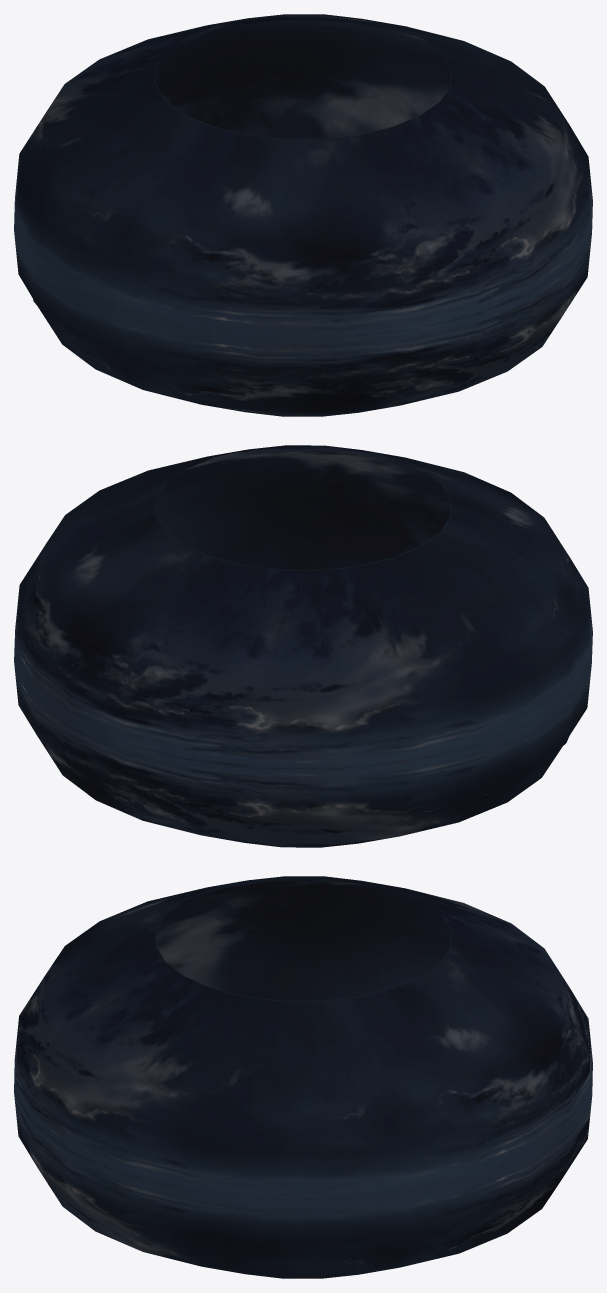
The model's file is sky.glb.
3 views of the same model, one above another, from view 1: azimuth 30°, elevation 25°; view 2: azimuth 150°, elevation 25°; view 3: azimuth 270°, elevation 25° (orthographic).
Visible parts, largest first — view 1: 2600:SKYDOME; view 2: 2600:SKYDOME; view 3: 2600:SKYDOME.
Boxes of the visible parts, box(x1,y1,x2,y2) form: 2600:SKYDOME: box(14, 14, 592, 416); 2600:SKYDOME: box(14, 445, 592, 847); 2600:SKYDOME: box(14, 876, 592, 1278).
Size of the model in its own units: 12247 by 7071 by 12247.
Materials: 2 (2 with a texture image).
